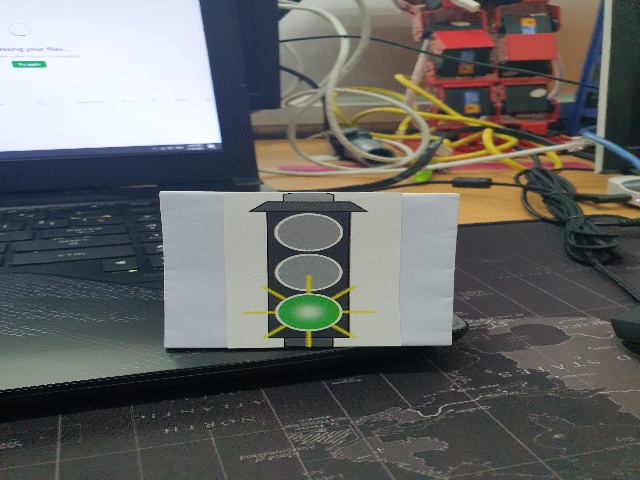Green Light: (238, 192, 378, 347)
